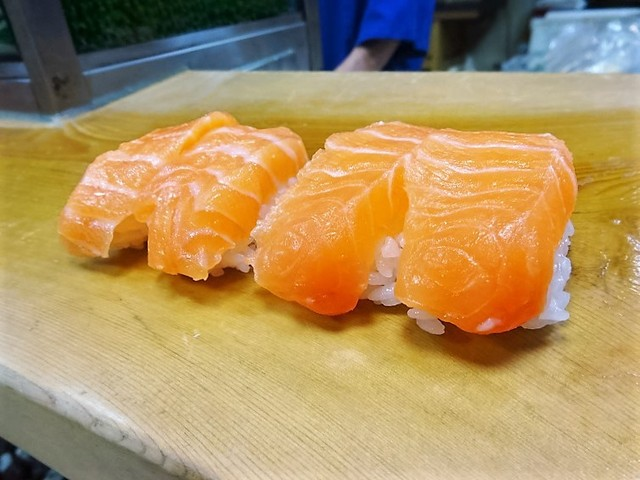salmon: (405, 129, 576, 338), (292, 128, 412, 310)
